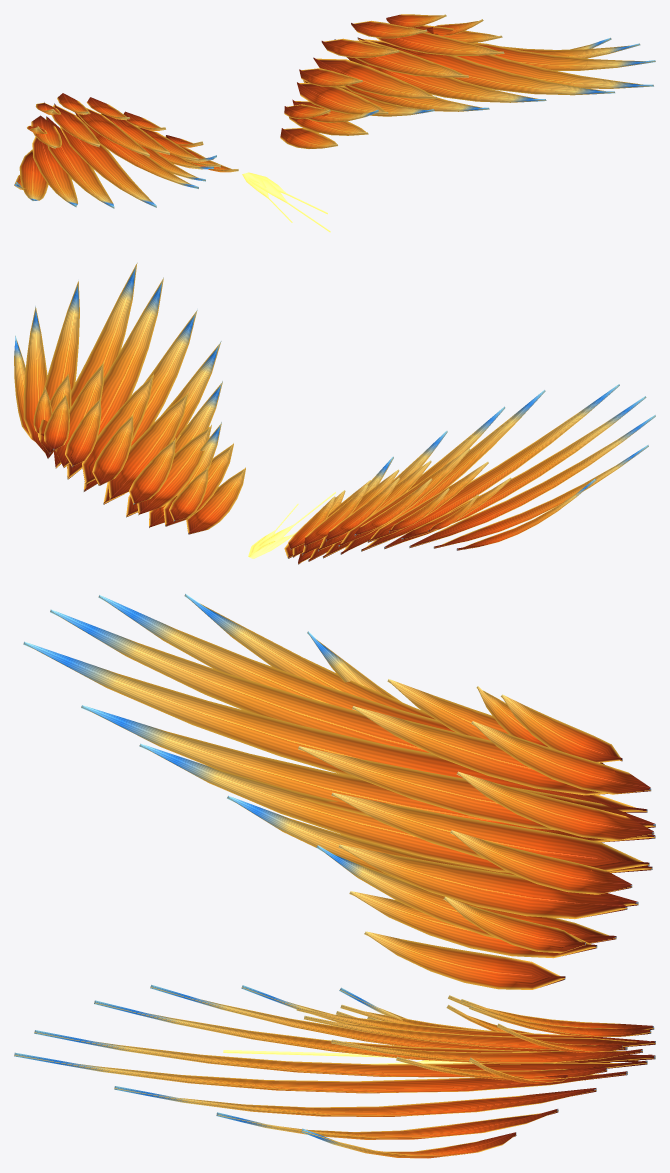
The model's file is wings-previous.glb.
The picture shows the model from 3 angles, top to bottom: view 1: azimuth 30°, elevation 25°; view 2: azimuth 150°, elevation 25°; view 3: azimuth 270°, elevation 25°; orthographic projection. The views are drawn at different scales.
Parts seen in each view (by area): view 1: WingRightMesh, WingLeftMesh, EmberTrail; view 2: WingRightMesh, WingLeftMesh, EmberTrail; view 3: WingLeftMesh, WingRightMesh, EmberTrail.
Boxes of the visible parts, bbox=[...] form: WingRightMesh: bbox=[280, 14, 655, 148]; WingLeftMesh: bbox=[14, 93, 238, 208]; EmberTrail: bbox=[242, 172, 330, 232]; WingRightMesh: bbox=[14, 262, 245, 534]; WingLeftMesh: bbox=[284, 384, 655, 564]; EmberTrail: bbox=[248, 492, 335, 558]; WingLeftMesh: bbox=[23, 593, 655, 989]; WingRightMesh: bbox=[14, 984, 655, 1158]; EmberTrail: bbox=[223, 1039, 472, 1064].
Bounding box in the file's own units: 0.544 × 0.1122 × 0.2847.
Materials: 2 (1 with a texture image).
